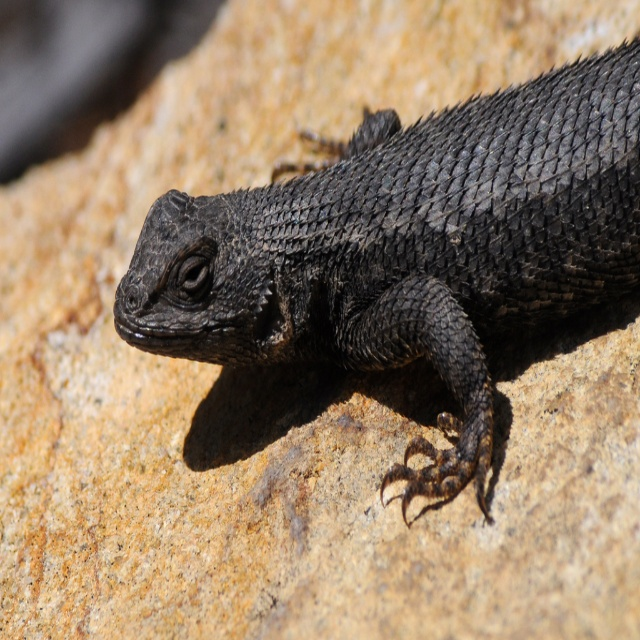Lizard: (108, 85, 588, 572)
